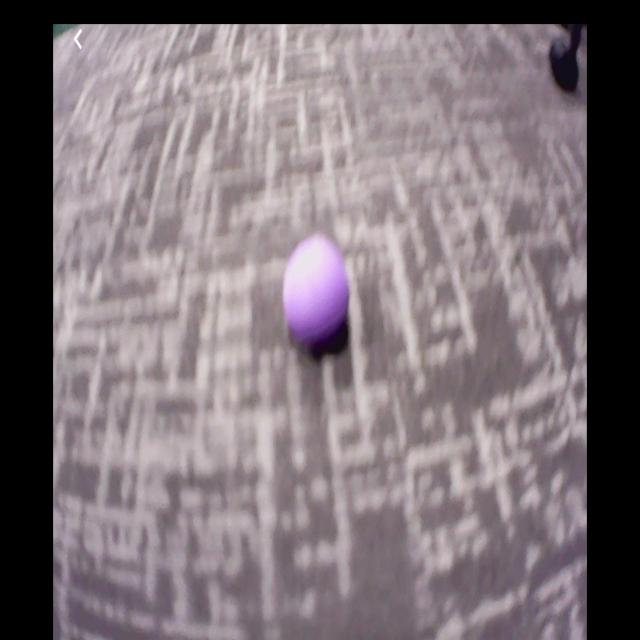ball: (284, 243, 350, 343)
